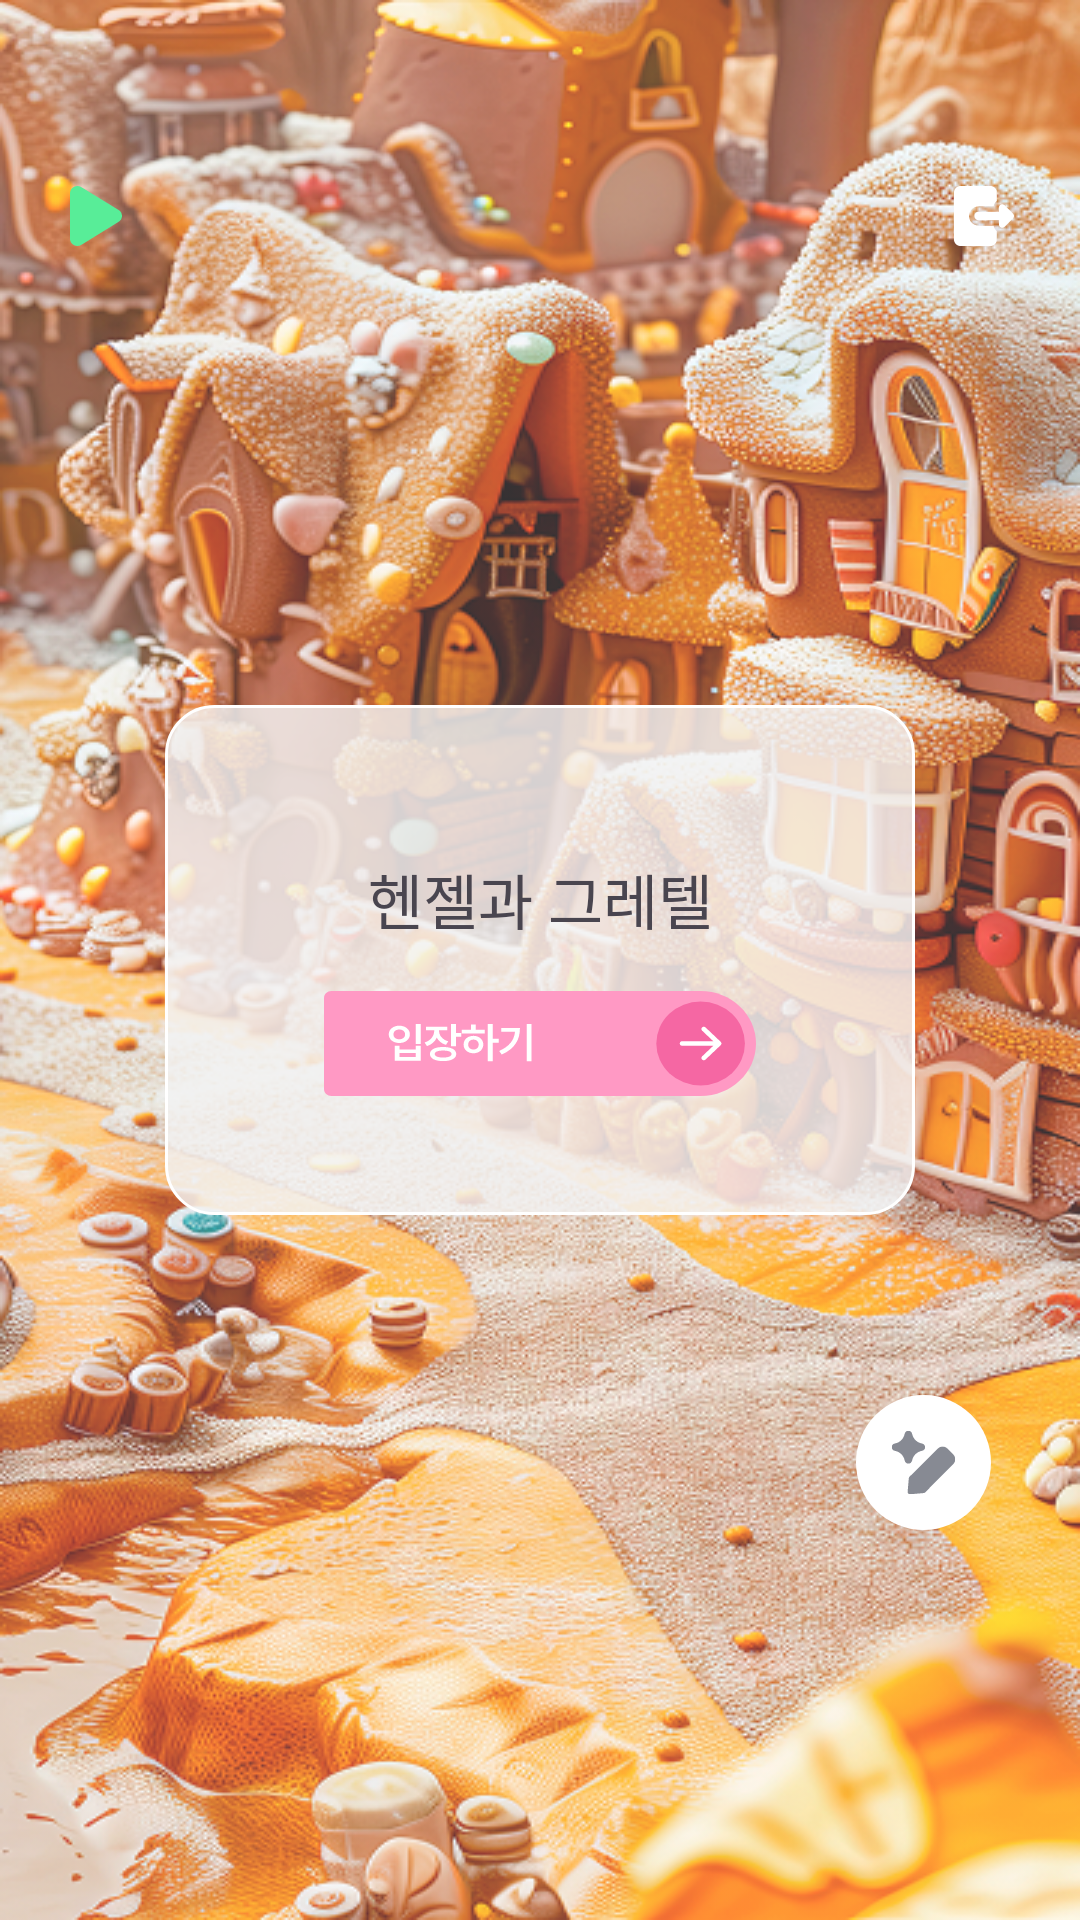

Icons on this 1080px x 1920px Android screen, each with the point to tap as point (x, y):
exit: point (984, 216)
play: point (96, 216)
